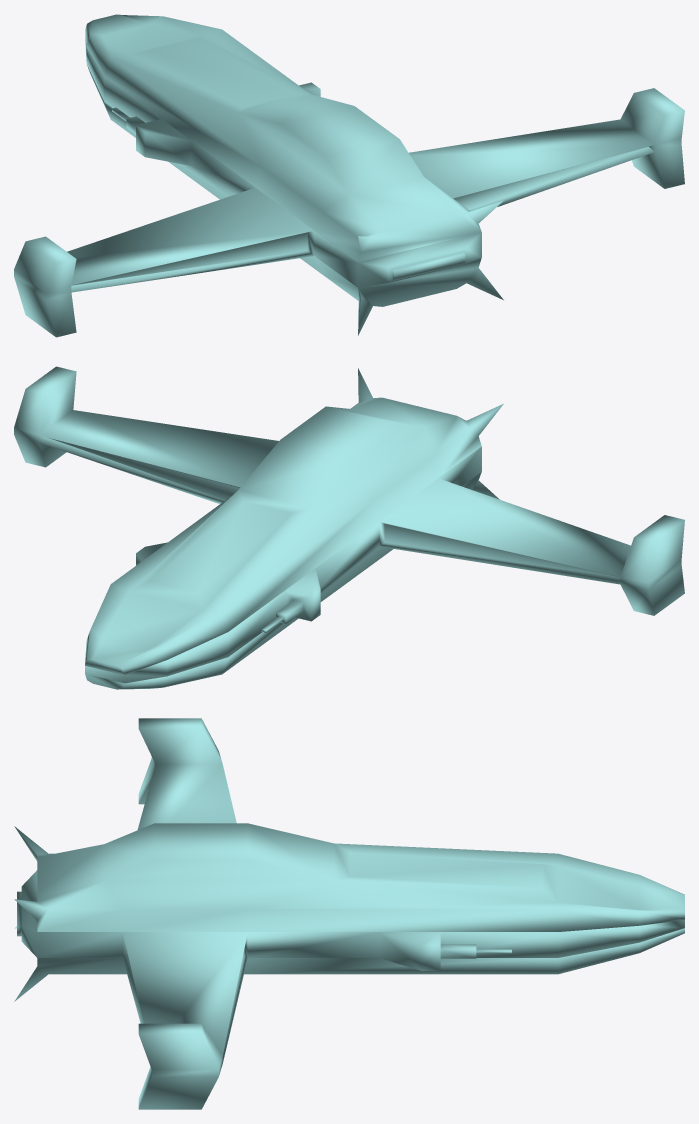
Rendered from SpaceShip.obj.
3 renders of one model, top to bottom at view 1: azimuth 30°, elevation 25°; view 2: azimuth 150°, elevation 25°; view 3: azimuth 270°, elevation 25°, orthographic. The views are drawn at different scales.
Visible parts, largest first — view 1: Collapsed; view 2: Collapsed; view 3: Collapsed.
Part boxes in pixels (box(x1,y1,x2,y2)): Collapsed: box(14, 14, 684, 337); Collapsed: box(14, 366, 684, 689); Collapsed: box(14, 718, 684, 1109).
Size of the model in its own units: 5.09 by 0.921 by 4.53.
